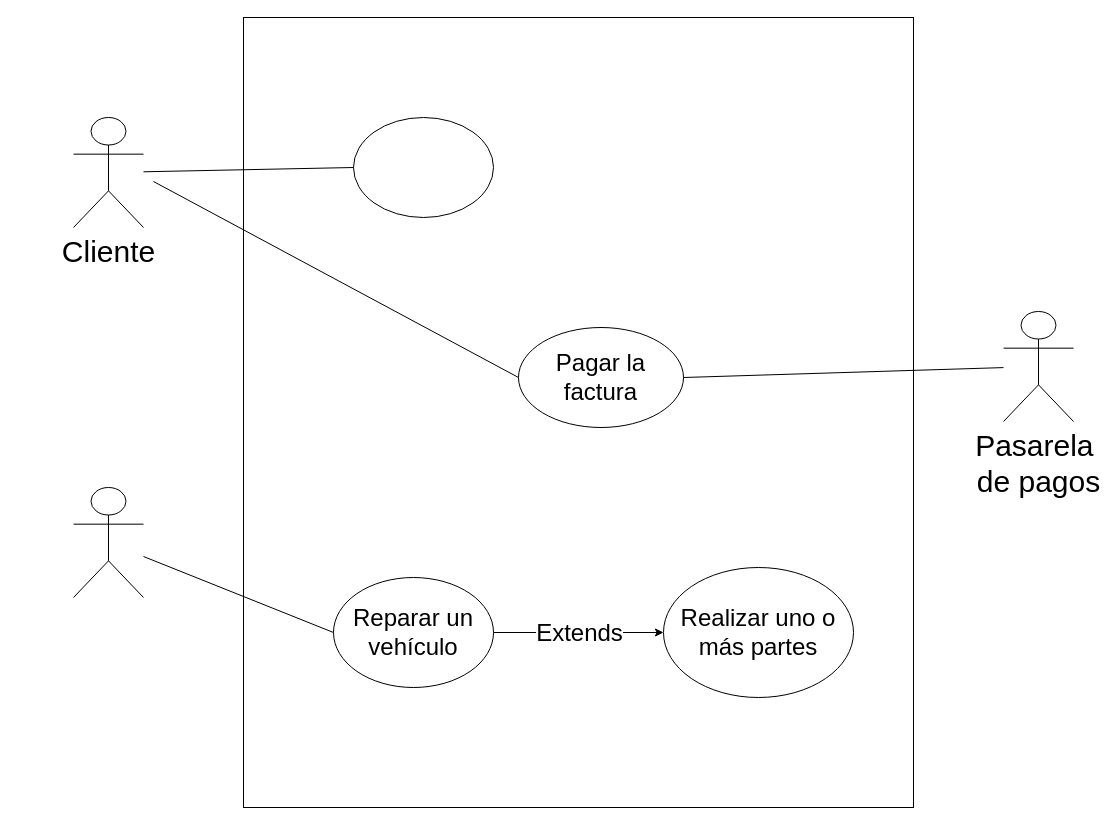
The diagram is 1119 pixels wide and 825 high, and some of its shapes have lost their labels. Here are the shapes that lost their labels. From the top down, the centre of each, then its label:
(x=423, y=167): Registrar vehículos
(x=108, y=542): Personal especializado
